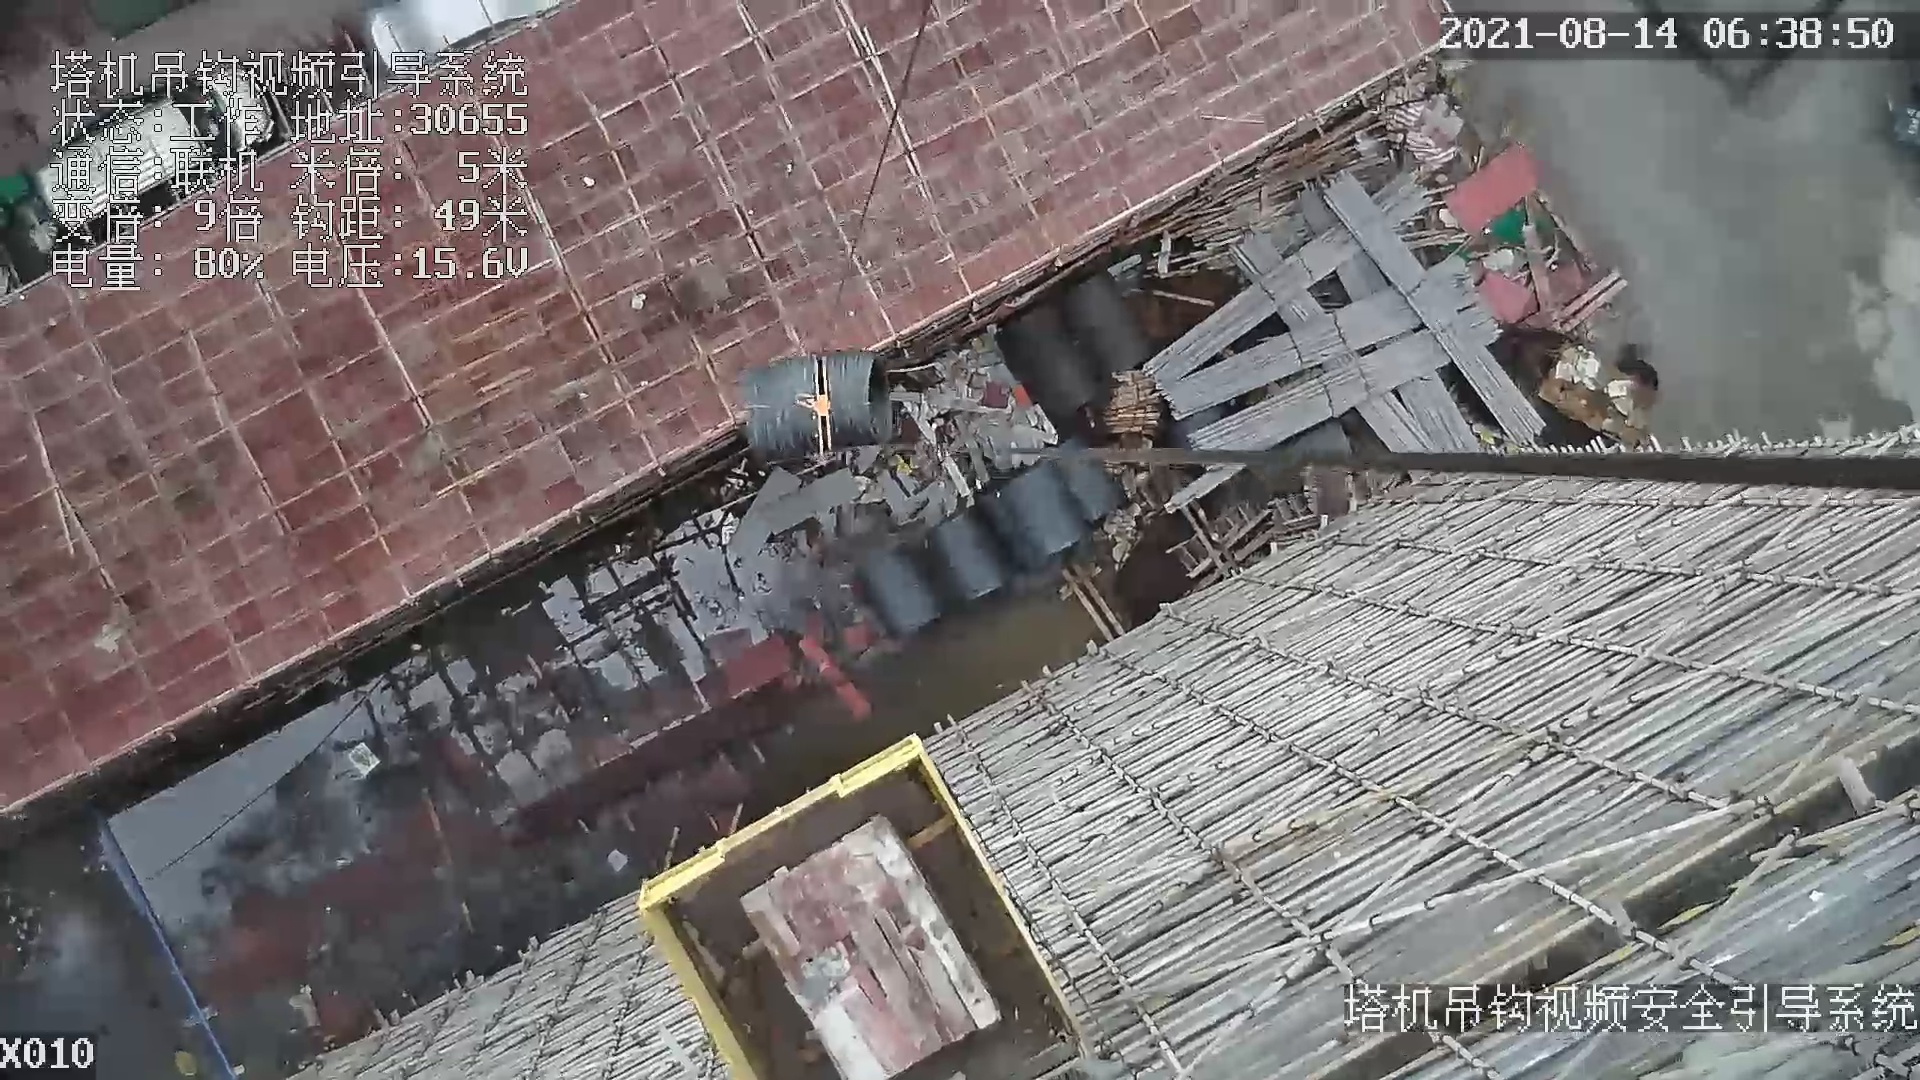hook: (787, 353, 841, 463)
